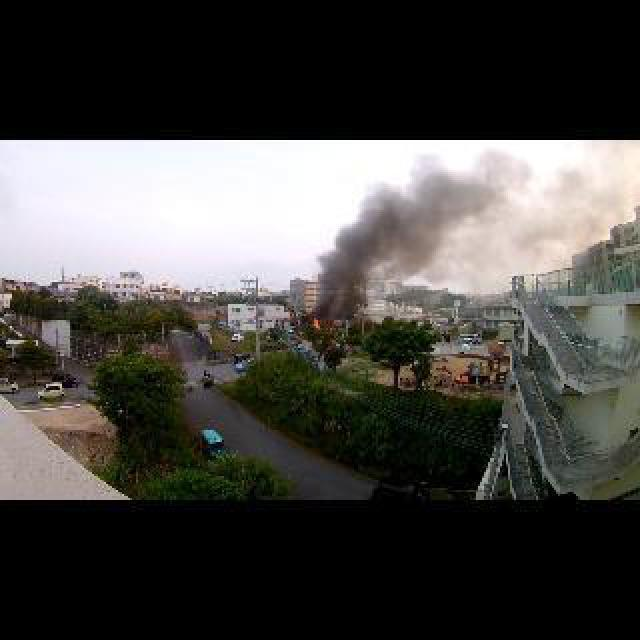Fire: (312, 318, 322, 332)
Smoke: (380, 169, 581, 275), (312, 202, 388, 314)
